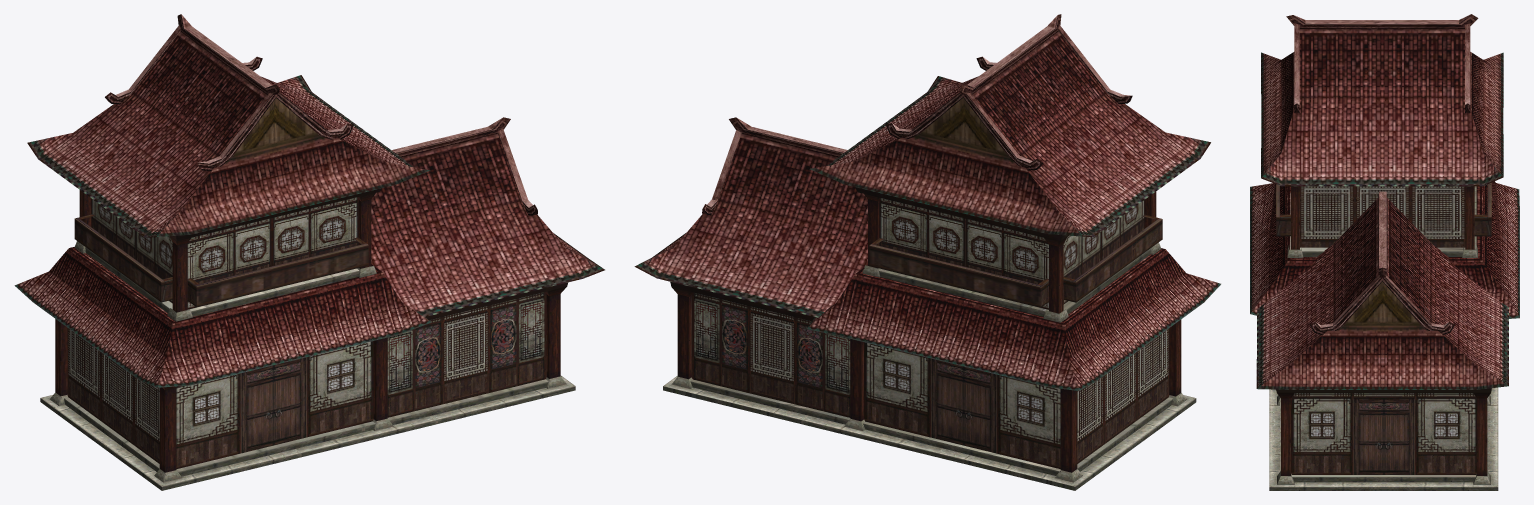
File: a1-007-itemshop_lod_01.glb
3 renders of one model, left to right at view 1: azimuth 30°, elevation 25°; view 2: azimuth 150°, elevation 25°; view 3: azimuth 270°, elevation 25°, orthographic. The views are drawn at different scales.
Parts seen in each view (by area): view 1: a1-007-itemshop-01, a1-007-itemshop-02; view 2: a1-007-itemshop-01, a1-007-itemshop-02; view 3: a1-007-itemshop-01, a1-007-itemshop-02.
Part boxes in pixels (x1,y1,x2,y2): a1-007-itemshop-01: (14, 14, 604, 387); a1-007-itemshop-02: (40, 188, 575, 490); a1-007-itemshop-01: (634, 14, 1220, 390); a1-007-itemshop-02: (663, 187, 1196, 490); a1-007-itemshop-01: (1250, 14, 1519, 389); a1-007-itemshop-02: (1269, 183, 1498, 490).
Bounding box in the file's own units: 17.49 × 13.61 × 9.63.
2 materials, 2 textured.
